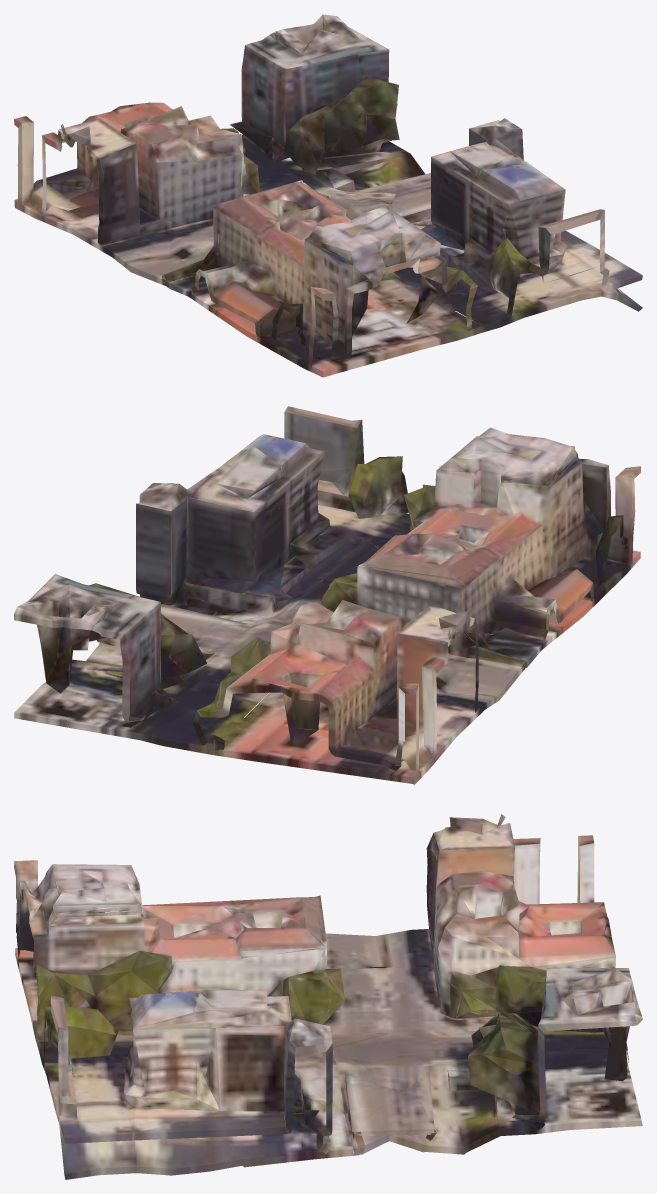
3 views of the same model, one above another, from view 1: azimuth 30°, elevation 25°; view 2: azimuth 150°, elevation 25°; view 3: azimuth 270°, elevation 25° (orthographic). The views are drawn at different scales.
Parts seen in each view (by area): view 1: Mesh_0; view 2: Mesh_0; view 3: Mesh_0.
Part boxes in pixels (x1,y1,x2,y2): Mesh_0: (14, 14, 642, 377); Mesh_0: (14, 406, 640, 785); Mesh_0: (14, 814, 642, 1179).
Size of the model in its own units: 133 by 47.77 by 165.
Materials: 1 (1 with a texture image).
